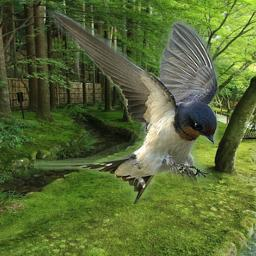Swallow: (34, 8, 219, 204)
